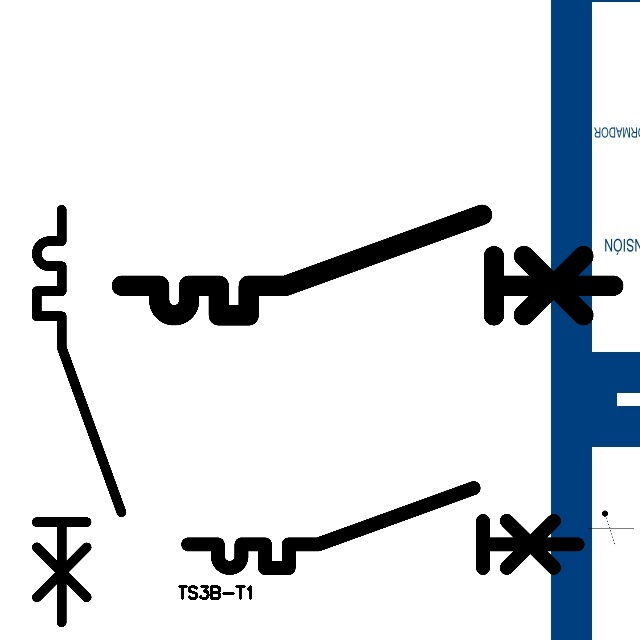interruptor_termomagnetico: (109, 202, 626, 328), (26, 199, 132, 633), (178, 478, 588, 578)
